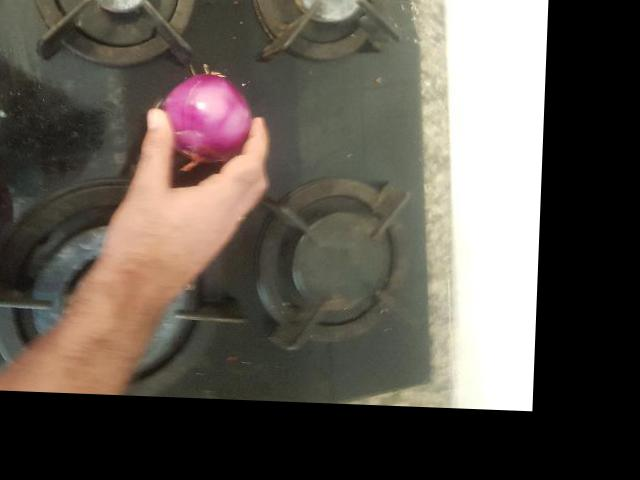onion: (285, 1, 382, 114)
